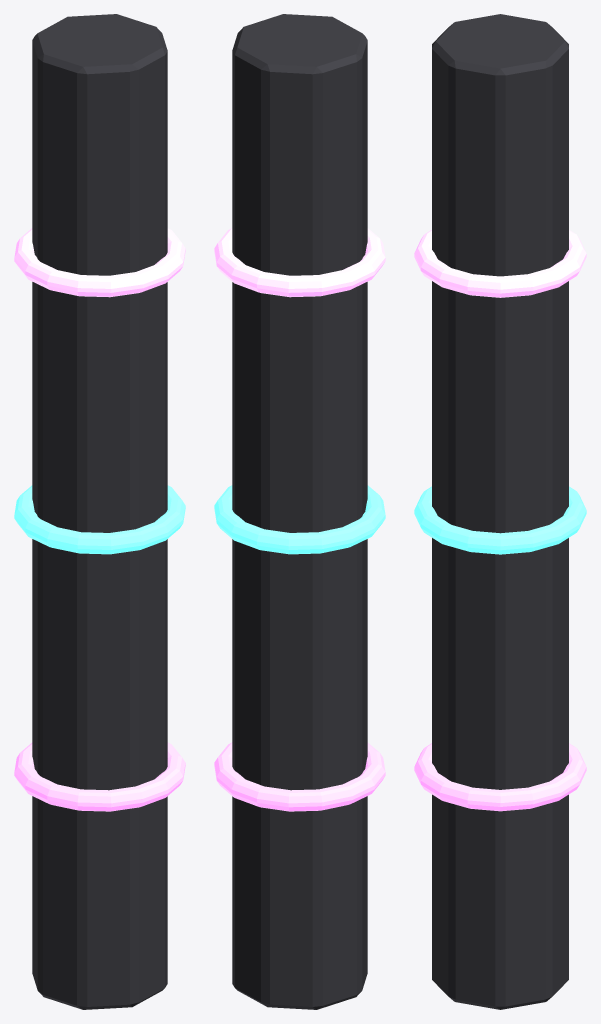
3 renders of one model, left to right at view 1: azimuth 30°, elevation 25°; view 2: azimuth 150°, elevation 25°; view 3: azimuth 270°, elevation 25°, orthographic.
Visible parts, largest first — view 1: NeonPillar; view 2: NeonPillar; view 3: NeonPillar.
Part boxes in pixels (<box>): NeonPillar: <box>14,14,185,1009</box>; NeonPillar: <box>214,14,385,1009</box>; NeonPillar: <box>414,14,586,1009</box>.
Bounding box in the file's own units: 0.3648 × 2.2 × 0.3648.
